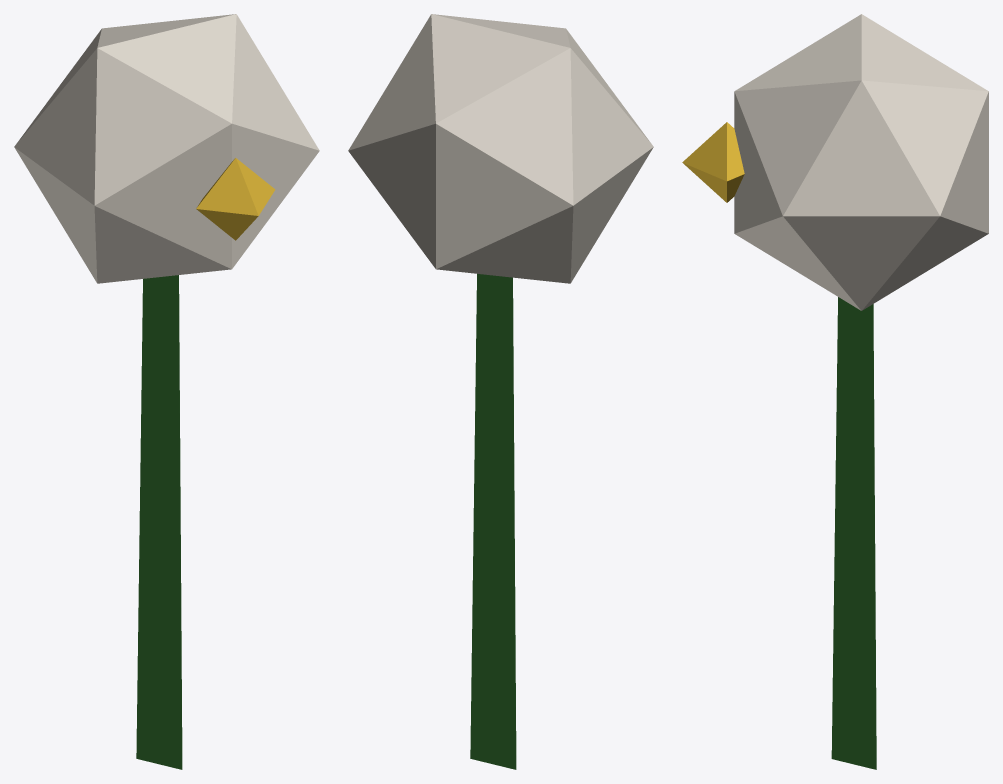
The model's file is biome-clover-dandelion.glb.
3 renders of one model, left to right at view 1: azimuth 30°, elevation 25°; view 2: azimuth 150°, elevation 25°; view 3: azimuth 270°, elevation 25°, orthographic. The views are drawn at different scales.
Bounding box in the file's own units: 0.3402 × 1.05 × 0.4101.
